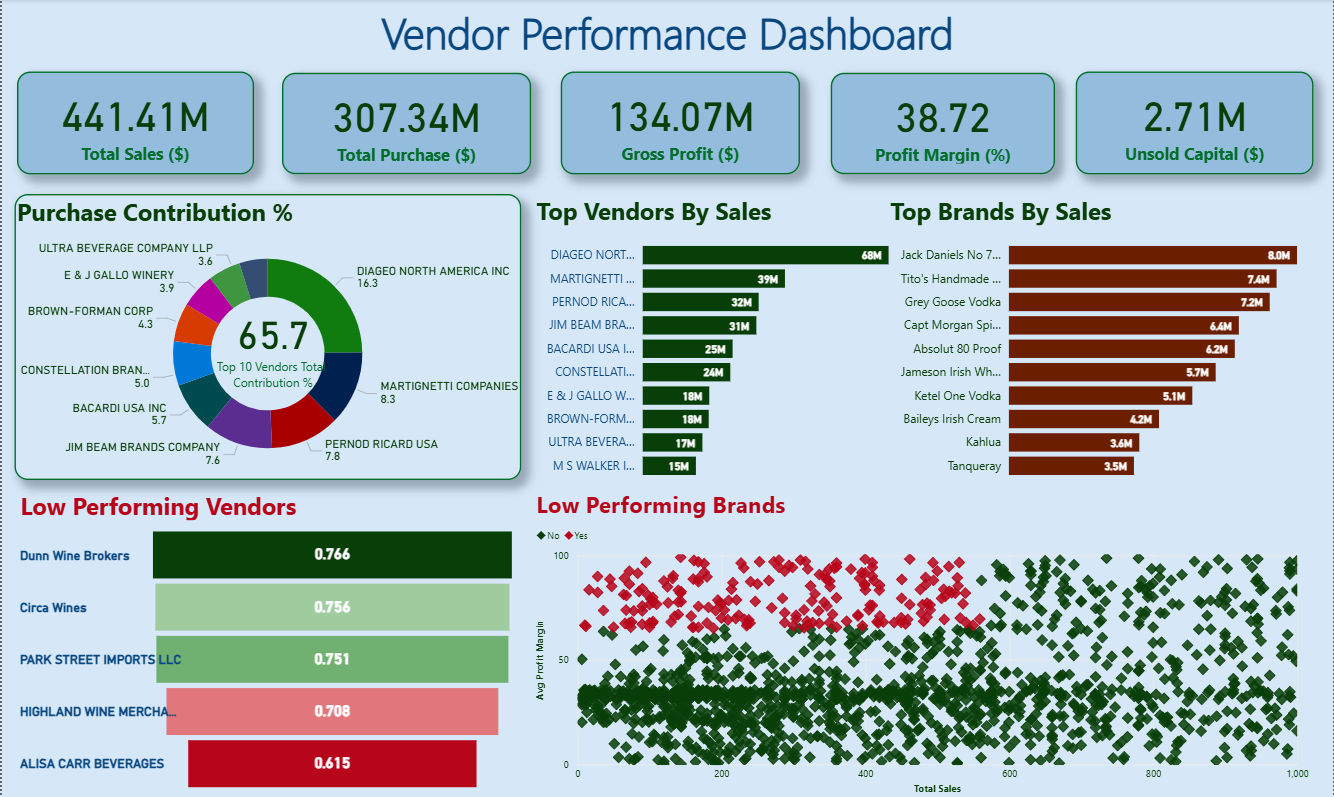

The page's visual inventory and layout, read from the dashboard file:
{"tool":"powerbi","page":{"name":"Page 1","canvas":[1500,900],"ordinal":0},"visuals":[{"type":"card","fields":{"Values":["Sum(vendor_sales_summary.TotalPurchaseDollars)"]},"box":[315.8,82.4,280.9,114.6],"z":0},{"type":"card","fields":{"Values":["Sum(vendor_sales_summary.TotalSalesDollars)"]},"box":[16.8,81,266.9,116],"z":1000},{"type":"card","fields":{"Values":["Sum(vendor_sales_summary.GrossProfit)"]},"box":[630.2,81,269.7,116],"z":2000},{"type":"card","fields":{"Values":["Sum(vendor_sales_summary.ProfitMargin)"]},"box":[934.8,82.4,252.9,114.6],"z":3000},{"type":"card","fields":{"Values":["Sum(vendor_sales_summary.UnsoldCapital)"]},"box":[1210.1,81,268.3,116],"z":4000},{"type":"textbox","box":[0,0,1500,83],"z":5000},{"type":"donutChart","title":"Purchase Contribution % ","fields":{"Category":["PurchaseContribution.VendorName"],"Y":["Sum(PurchaseContribution.PurchaseContribution%)"]},"box":[14.5,219.4,571,322.6],"z":6000},{"type":"card","fields":{"Values":["Sum(PurchaseContribution.PurchaseContribution%)"]},"box":[211.8,266.7,188.2,233.3],"z":7000},{"type":"barChart","title":"Top Vendors By Sales","fields":{"Category":["vendor_sales_summary.VendorName"],"Y":["Sum(vendor_sales_summary.TotalSalesDollars)"]},"box":[597.3,219.2,447.9,332.9],"z":8000},{"type":"barChart","title":"Top Brands By Sales","fields":{"Category":["vendor_sales_summary.Description"],"Y":["Sum(vendor_sales_summary.TotalSalesDollars)"]},"box":[995.9,219.2,504.1,332.9],"z":9000},{"type":"funnel","title":"Low Performing Vendors","fields":{"Category":["LowTurnoverVendor.VendorName"],"Y":["Avg(LowTurnoverVendor.AvgStockTurnOver)"]},"box":[16.1,551.6,569.4,348.4],"z":10000},{"type":"scatterChart","title":"Low Performing Brands","fields":{"X":["Sum(BrandPerformance.TotalSales)"],"Y":["Sum(BrandPerformance.AvgProfitMargin)"],"Series":["BrandPerformance.TargetBrand"],"Category":["BrandPerformance.Description"]},"box":[596.8,551.6,880.6,348.4],"z":11000}]}

Visuals, with their boxes in screenshot pixels (x1, y1, x2, y2), scaled from the page's 1500x900 canvas onto the 1334x797 screenshot:
card - Sum(vendor_sales_summary.TotalPurchaseDollars): 281/73/531/174
card - Sum(vendor_sales_summary.TotalSalesDollars): 15/72/252/174
card - Sum(vendor_sales_summary.GrossProfit): 560/72/800/174
card - Sum(vendor_sales_summary.ProfitMargin): 831/73/1056/174
card - Sum(vendor_sales_summary.UnsoldCapital): 1076/72/1315/174
textbox: 0/0/1333/74
"Purchase Contribution % " donutChart: 13/194/521/480
card - Sum(PurchaseContribution.PurchaseContribution%): 188/236/356/443
"Top Vendors By Sales" barChart: 531/194/930/489
"Top Brands By Sales" barChart: 886/194/1333/489
"Low Performing Vendors" funnel: 14/488/521/796
"Low Performing Brands" scatterChart: 531/488/1314/796
